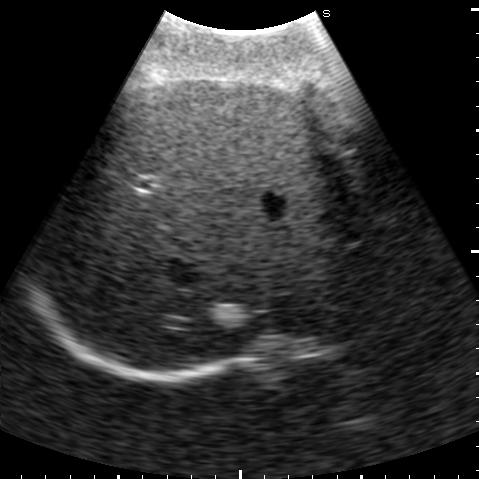S5: (112, 82, 331, 187)
S7: (42, 156, 173, 328)
S8: (116, 172, 381, 368)
Tumor: (210, 302, 250, 328)
